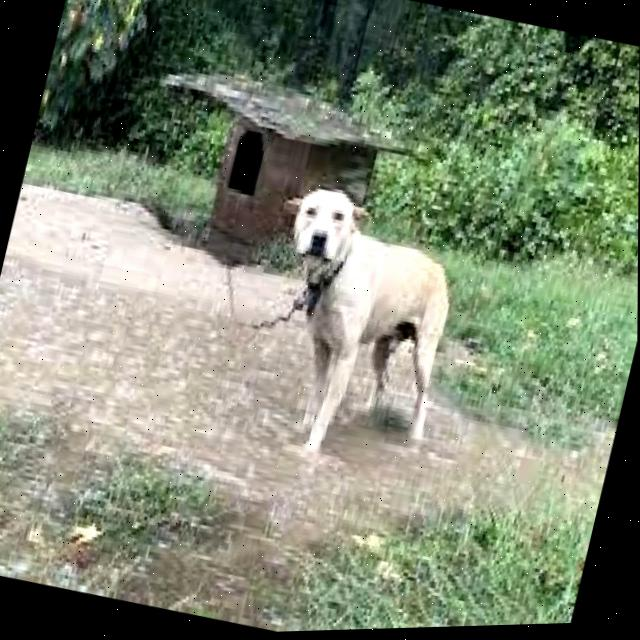dog: (225, 160, 517, 497)
